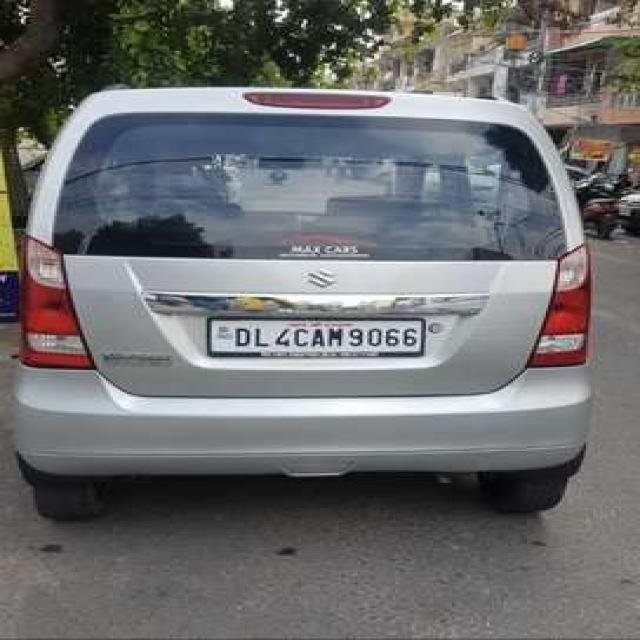license_plate: (194, 308, 462, 368)
